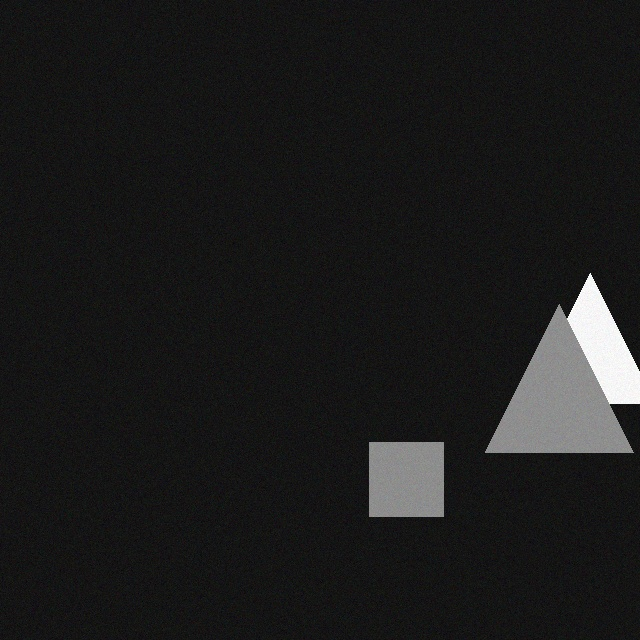square: (354, 456, 428, 530)
triangle: (470, 318, 618, 466), (510, 287, 640, 417)
